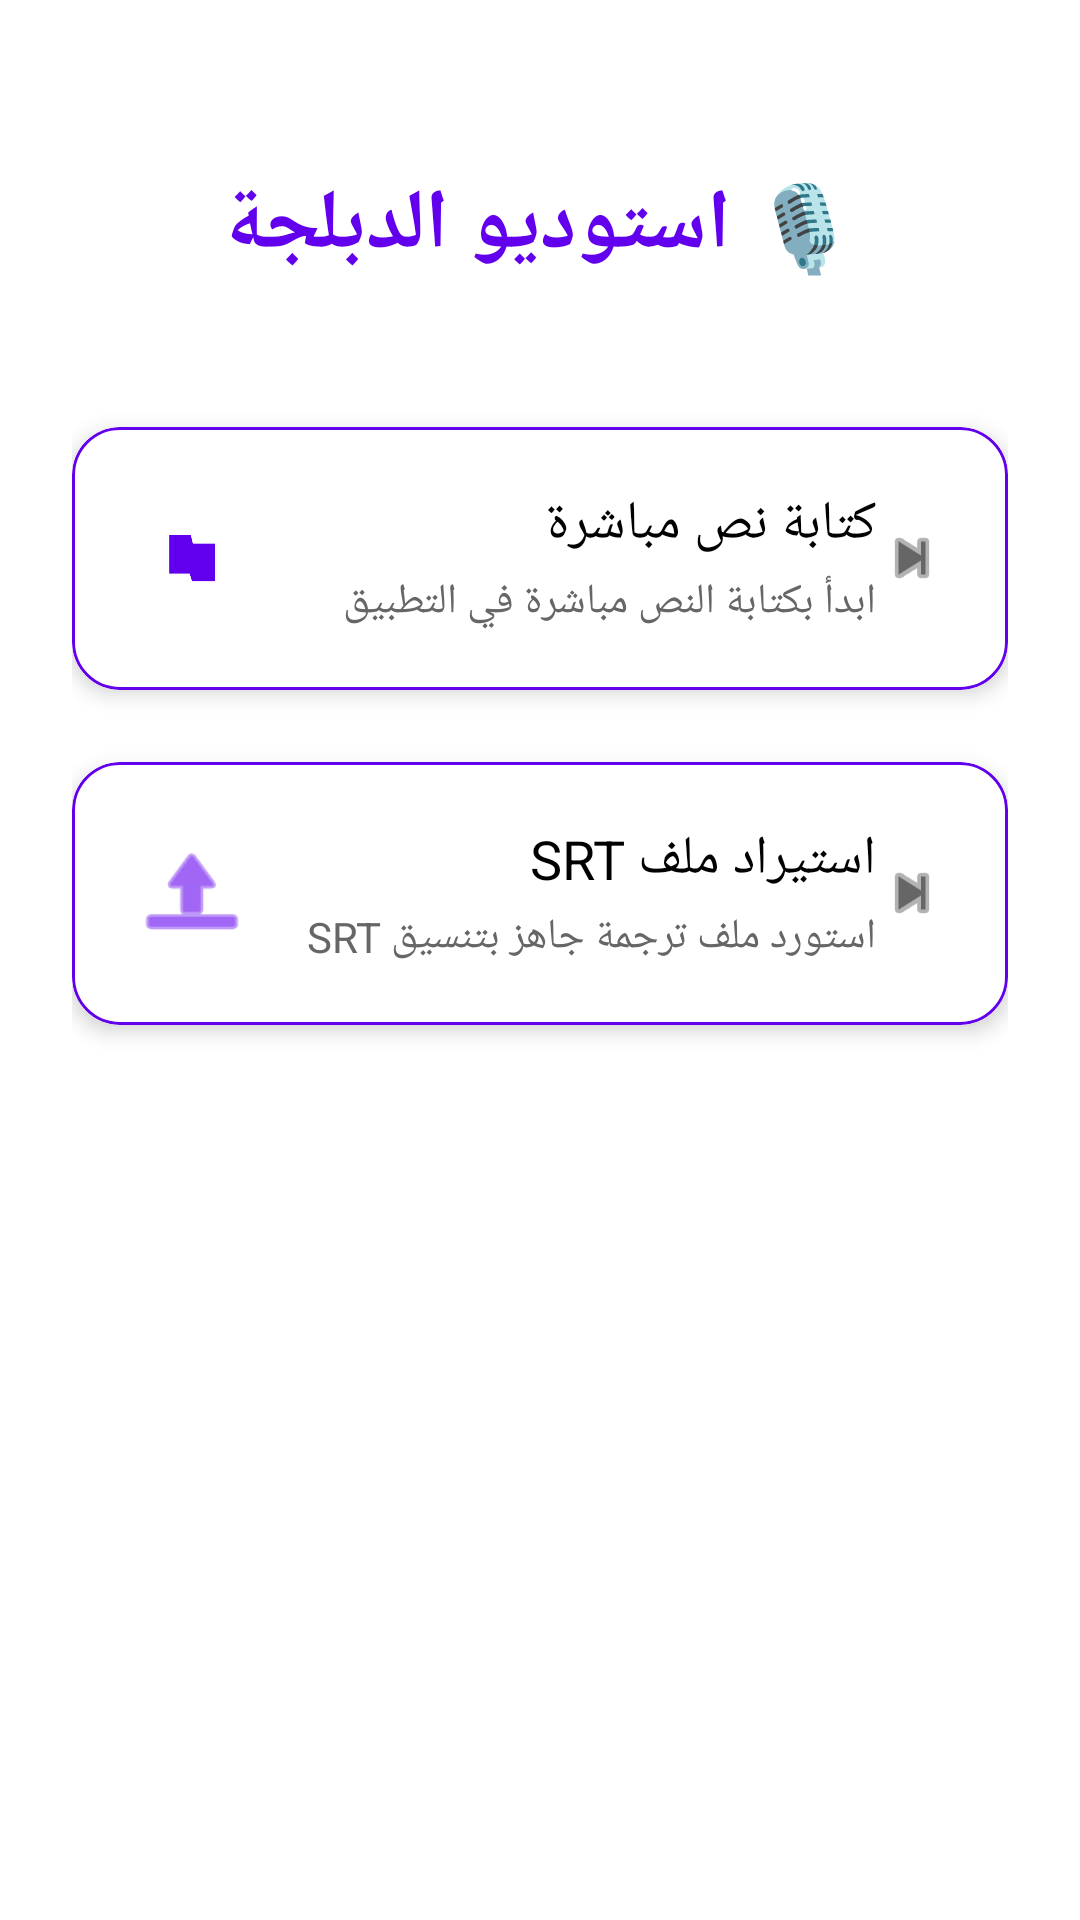

Locate icon controls on the screen. Image size 1080px×1920px, boxes as (x1, y1, x2, y2).
next: (895, 538, 929, 578), (895, 873, 929, 913)
upload: (146, 853, 238, 930)
